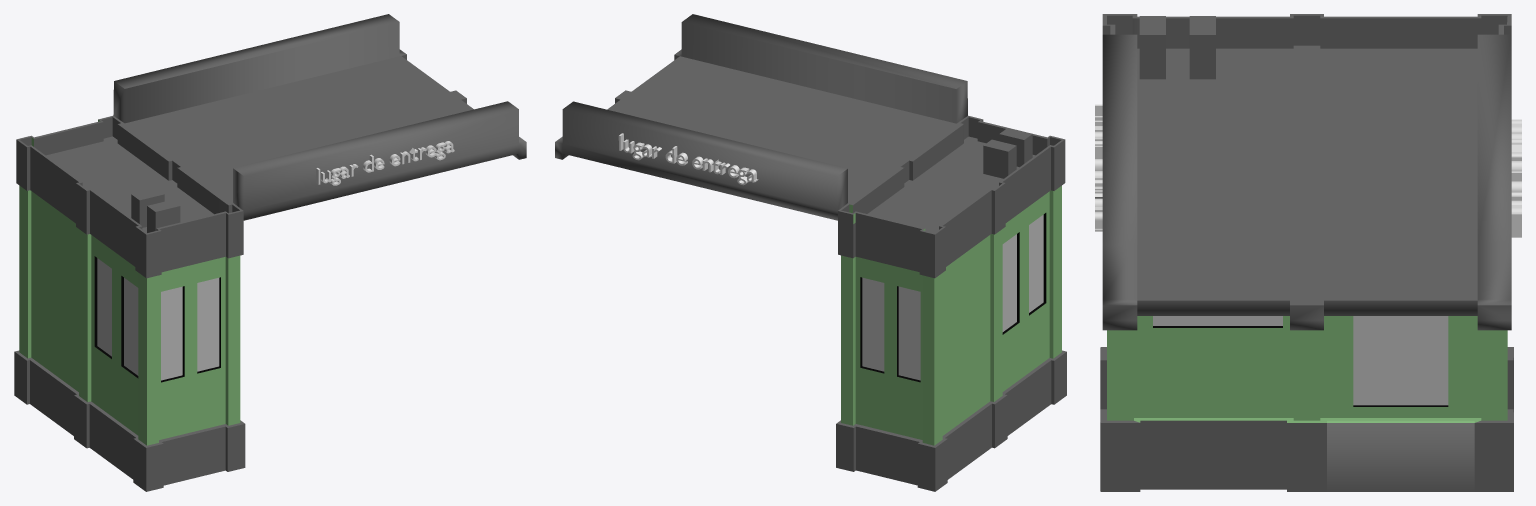
File: entrega cajas.fbx
3 views of the same model, side by side, from view 1: azimuth 30°, elevation 25°; view 2: azimuth 150°, elevation 25°; view 3: azimuth 270°, elevation 25° (orthographic). The views are drawn at different scales.
Visible parts, largest first — view 1: factory_small_mesh; view 2: factory_small_mesh; view 3: factory_small_mesh.
Boxes of the visible parts, x1,y1,x2,y2 form: factory_small_mesh: (14, 14, 526, 491); factory_small_mesh: (555, 14, 1066, 491); factory_small_mesh: (1095, 14, 1521, 491).
Bounding box in the file's own units: 185 × 135 × 115.
